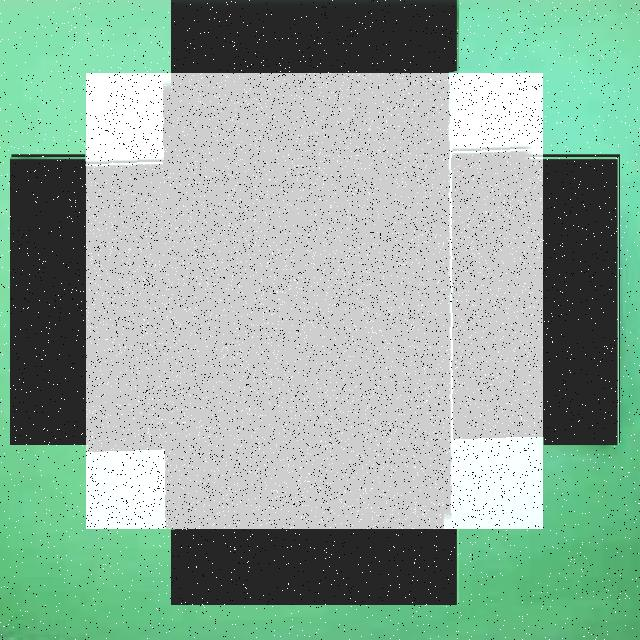lima puluh ribu rupiah: (86, 73, 543, 529)
